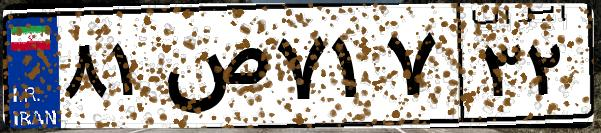1: (330, 28, 385, 110), (110, 28, 158, 98)
2: (525, 38, 570, 115)
3: (475, 38, 525, 113)
7: (270, 28, 330, 110), (385, 28, 445, 110)
8: (57, 26, 110, 100)
ص: (158, 20, 270, 120)
